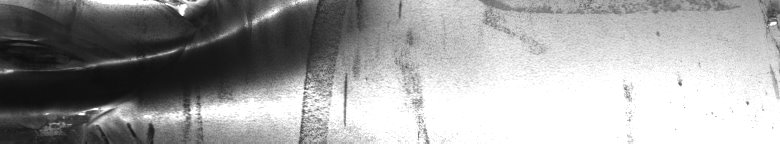ke: (4, 4, 427, 136)
